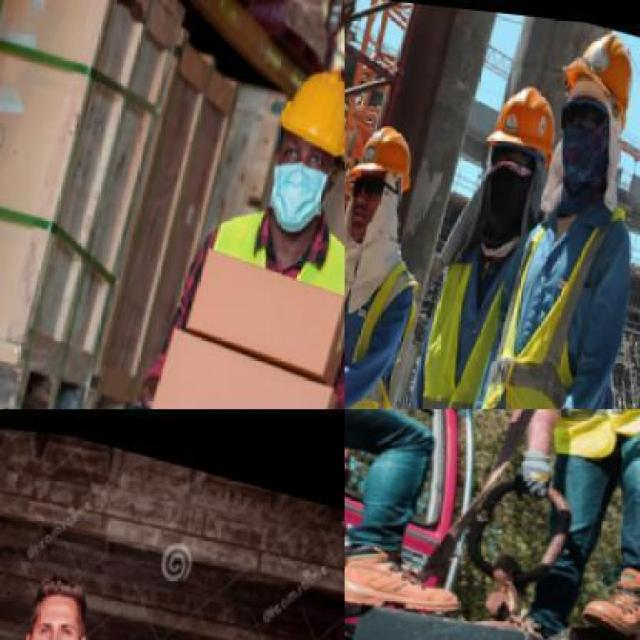hat: (557, 12, 638, 125), (275, 43, 343, 159), (486, 71, 569, 155), (352, 114, 425, 185)
